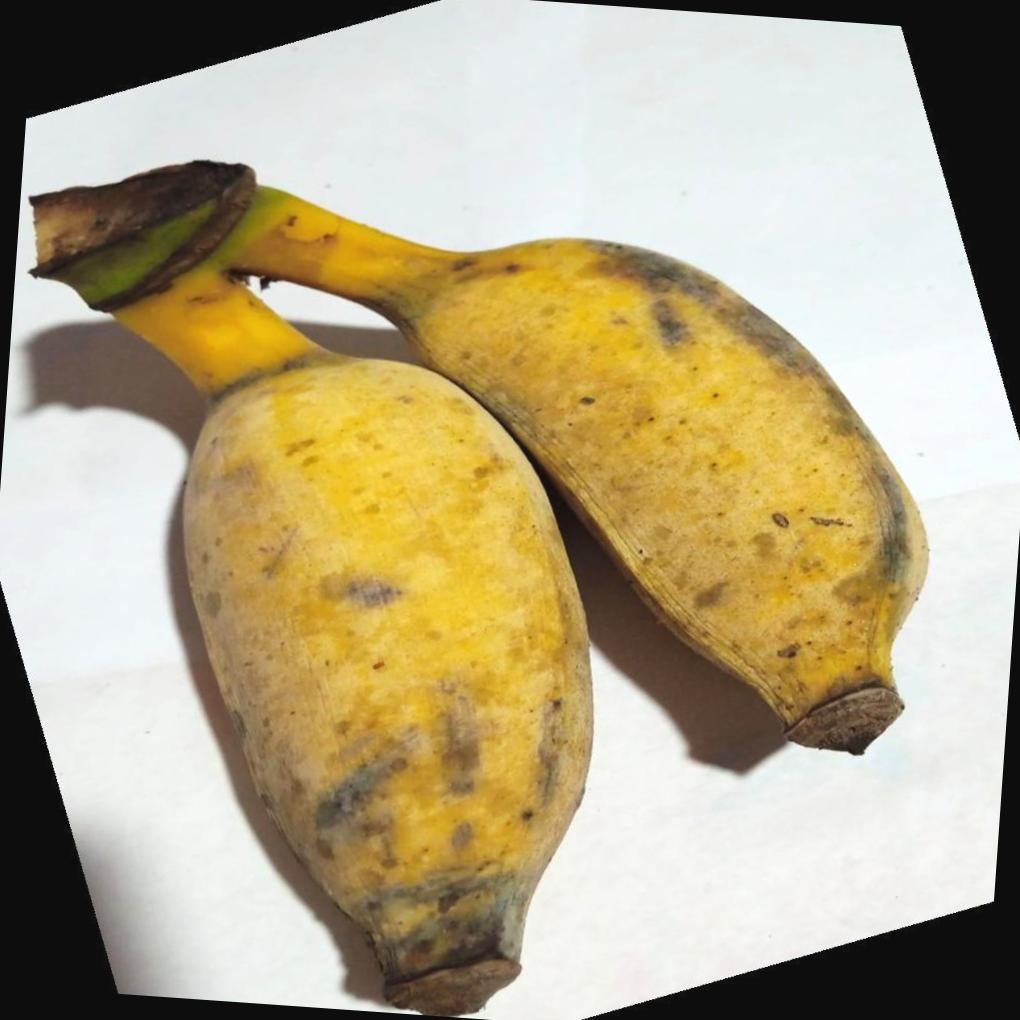Banana Ripe: (16, 63, 1009, 1020), (0, 154, 658, 1020), (175, 133, 998, 810)
